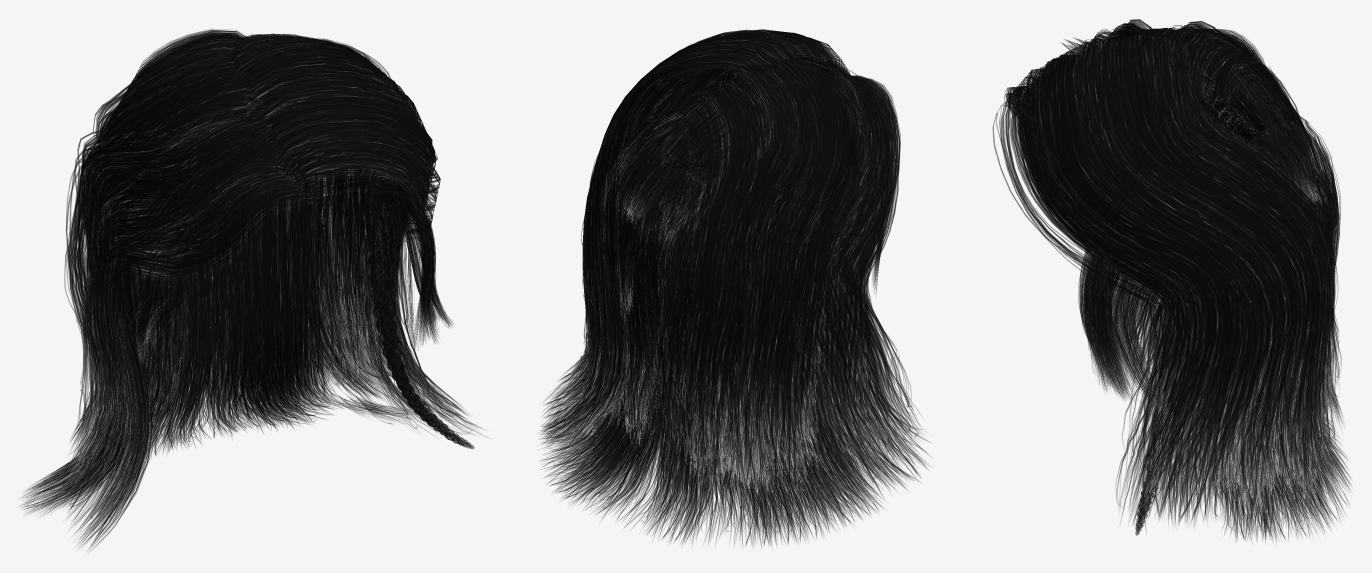
Rendered from long_black_hair_for_character.glb.
3 views of the same model, side by side, from view 1: azimuth 30°, elevation 25°; view 2: azimuth 150°, elevation 25°; view 3: azimuth 270°, elevation 25° (orthographic). The views are drawn at different scales.
Parts seen in each view (by area): view 1: Object_3, Object_4, Object_2; view 2: Object_3, Object_4, Object_2; view 3: Object_4, Object_3, Object_2.
Part boxes in pixels (left/top/right/bottom): Object_3: left=22, top=29, right=408, bottom=550; Object_4: left=222, top=33, right=487, bottom=437; Object_2: left=283, top=143, right=474, bottom=448; Object_3: left=540, top=53, right=930, bottom=547; Object_4: left=542, top=29, right=850, bottom=451; Object_2: left=674, top=67, right=735, bottom=115; Object_4: left=992, top=33, right=1341, bottom=529; Object_3: left=1004, top=19, right=1350, bottom=541; Object_2: left=1024, top=82, right=1197, bottom=535.
Bounding box in the file's own units: 27.25 × 31.03 × 22.15.
Materials: 1 (1 with a texture image).
